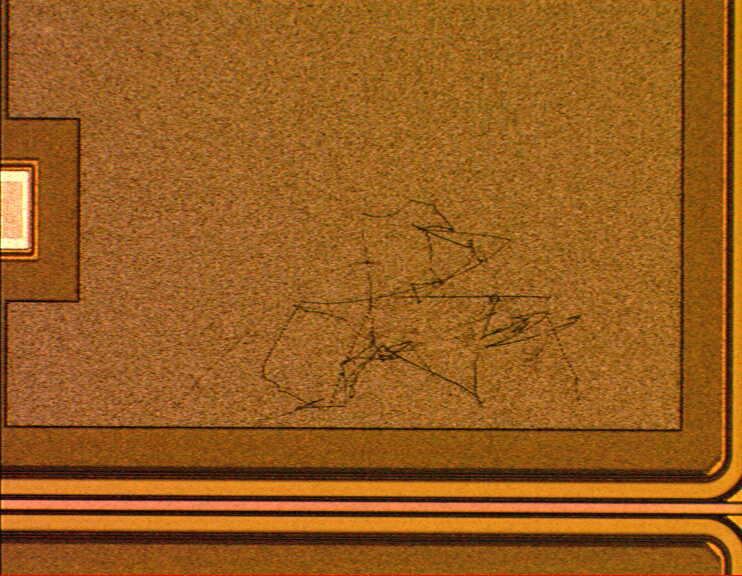SCRATCH: (169, 194, 588, 435)
